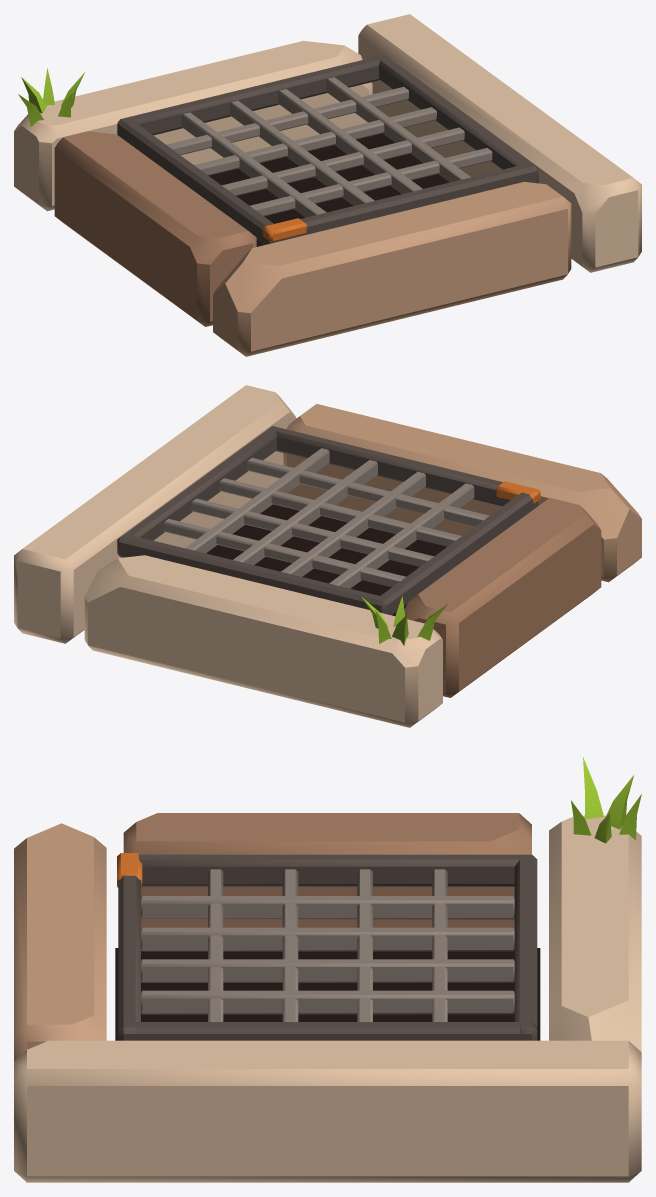
The model's file is floor_grate__upper.glb.
3 views of the same model, one above another, from view 1: azimuth 30°, elevation 25°; view 2: azimuth 150°, elevation 25°; view 3: azimuth 270°, elevation 25° (orthographic). The views are drawn at different scales.
Visible parts, largest first — view 1: floor_grate; view 2: floor_grate; view 3: floor_grate.
Boxes of the visible parts, x1,y1,x2,y2 form: floor_grate: [14, 14, 641, 356]; floor_grate: [14, 385, 641, 727]; floor_grate: [14, 757, 641, 1182].
Bounding box in the file's own units: 1.01 × 0.2698 × 0.9745.
